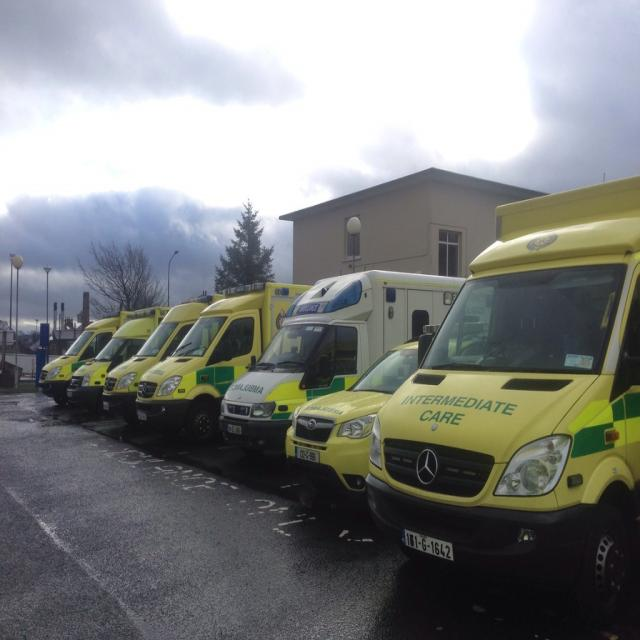Ambulance: (36, 176, 640, 632)
